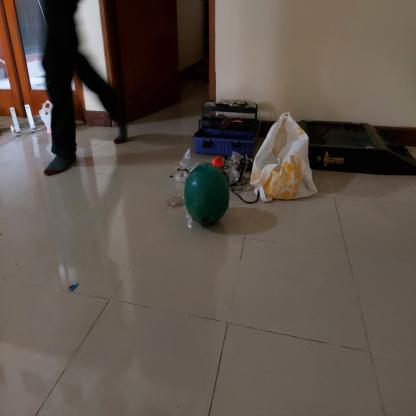green_buoy: (181, 160, 231, 228)
